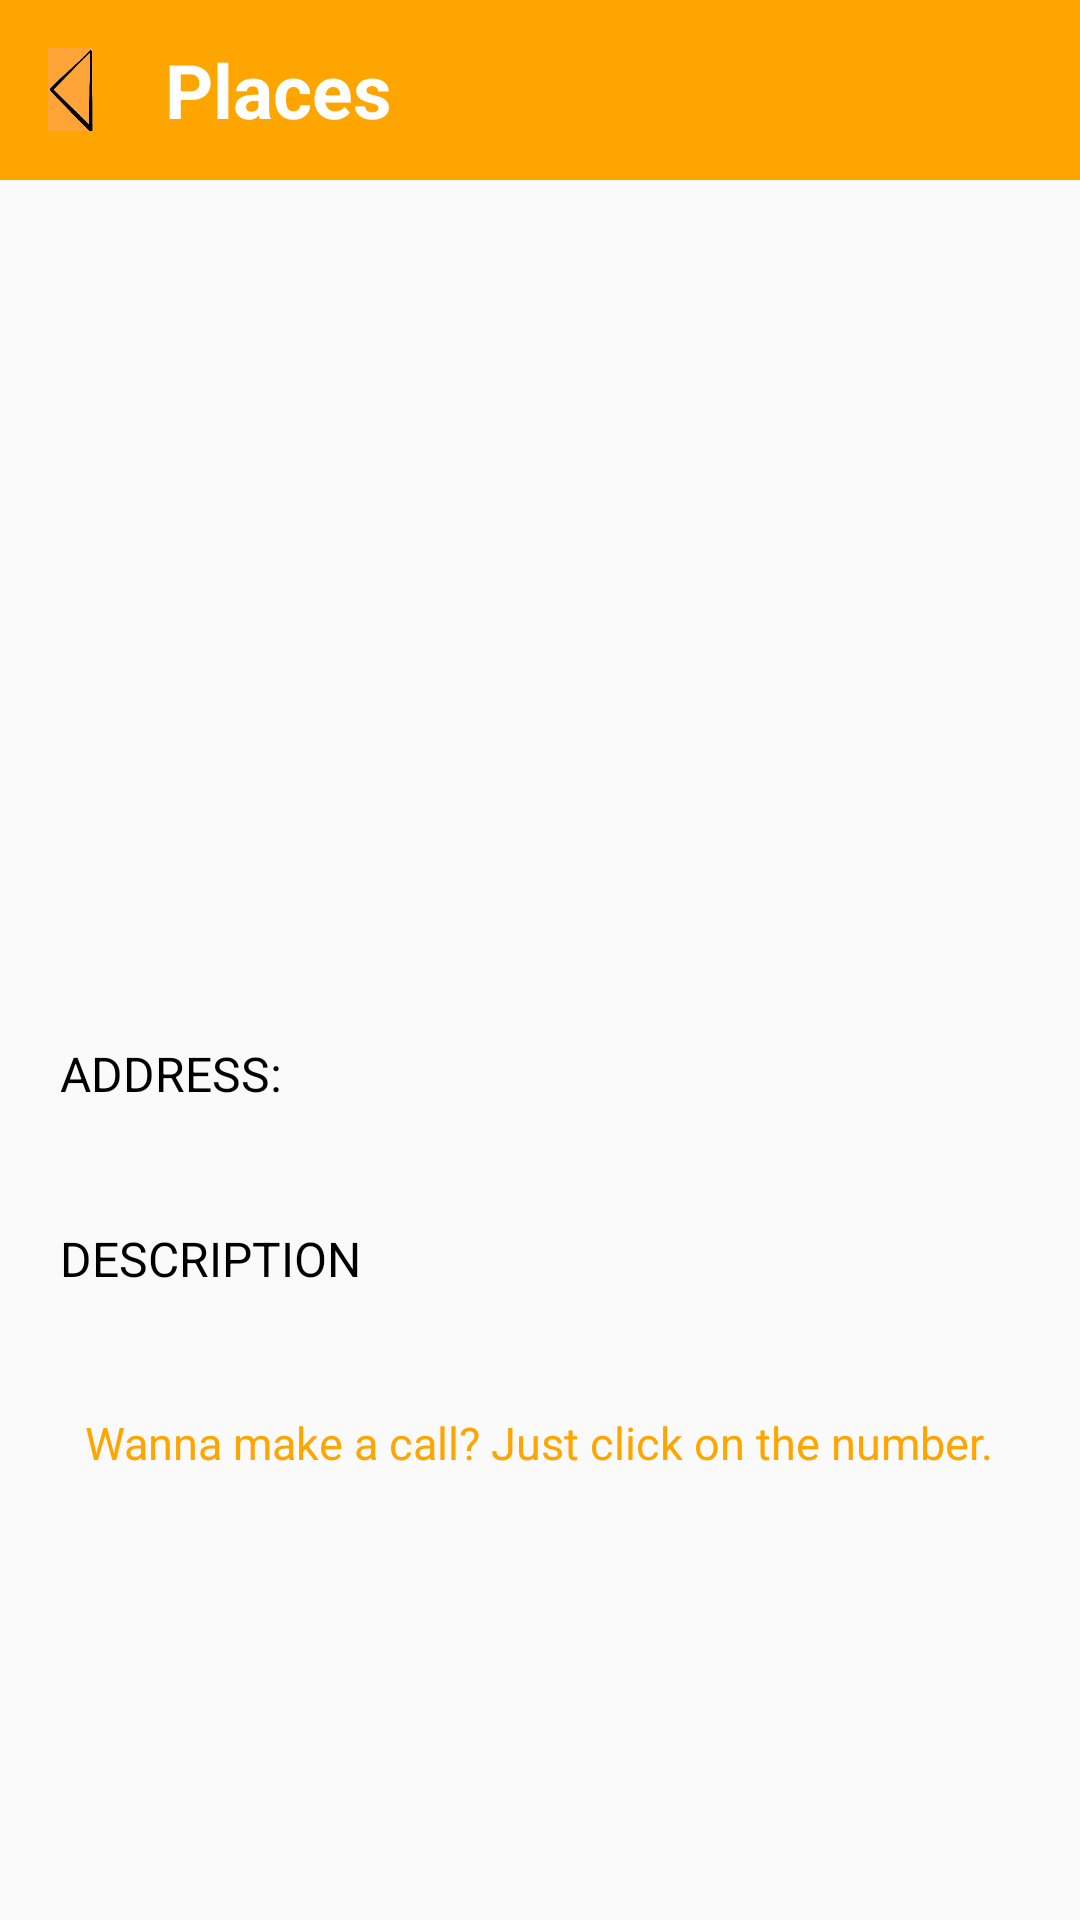

Icon click points for this 1080*1920 phone screenshot, format point (x, y):
backarrow: point (70, 89)
